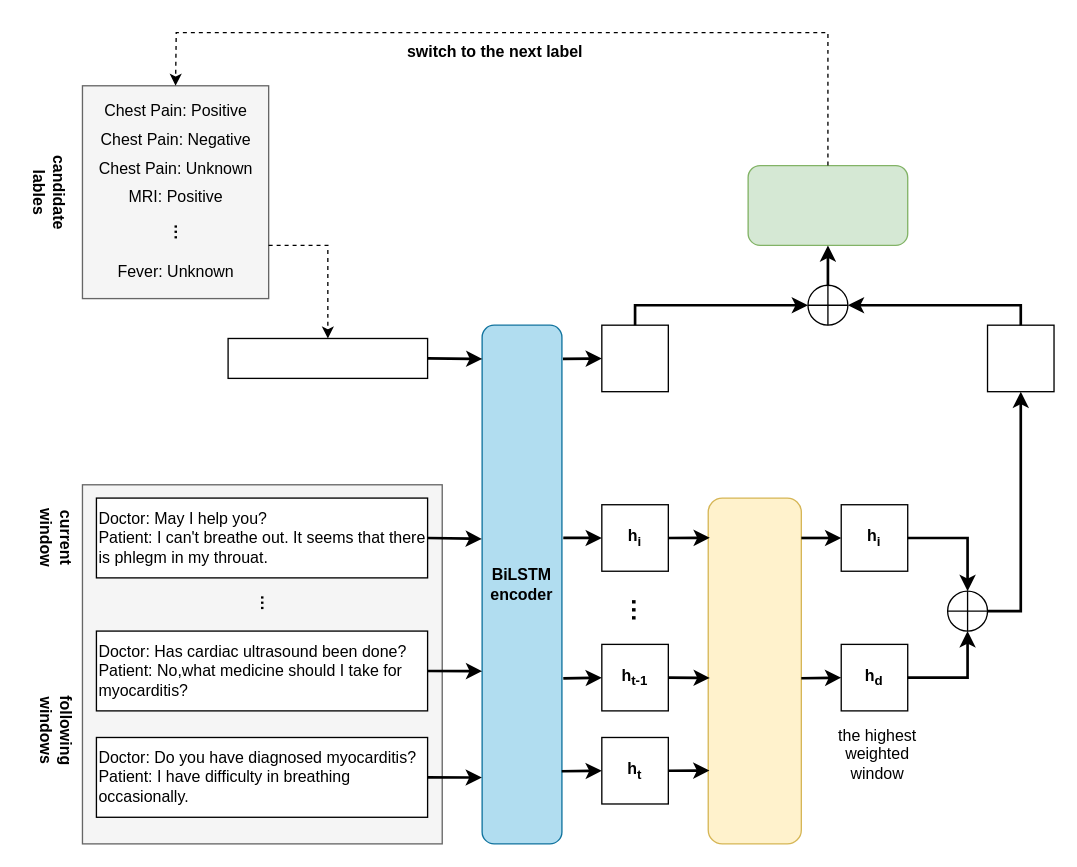
The diagram is 1077 pixels wide and 867 high, and some of its shapes have lost their labels. Here are the shapes that lost their labels. From the top down, the box of each, then its label:
(747, 164, 908, 245): MIE predictor
(227, 337, 428, 378): Chest Pain: Positive
(600, 324, 668, 392): g l
(986, 324, 1054, 392): h i '
(707, 497, 801, 844): Dynamic Attention
